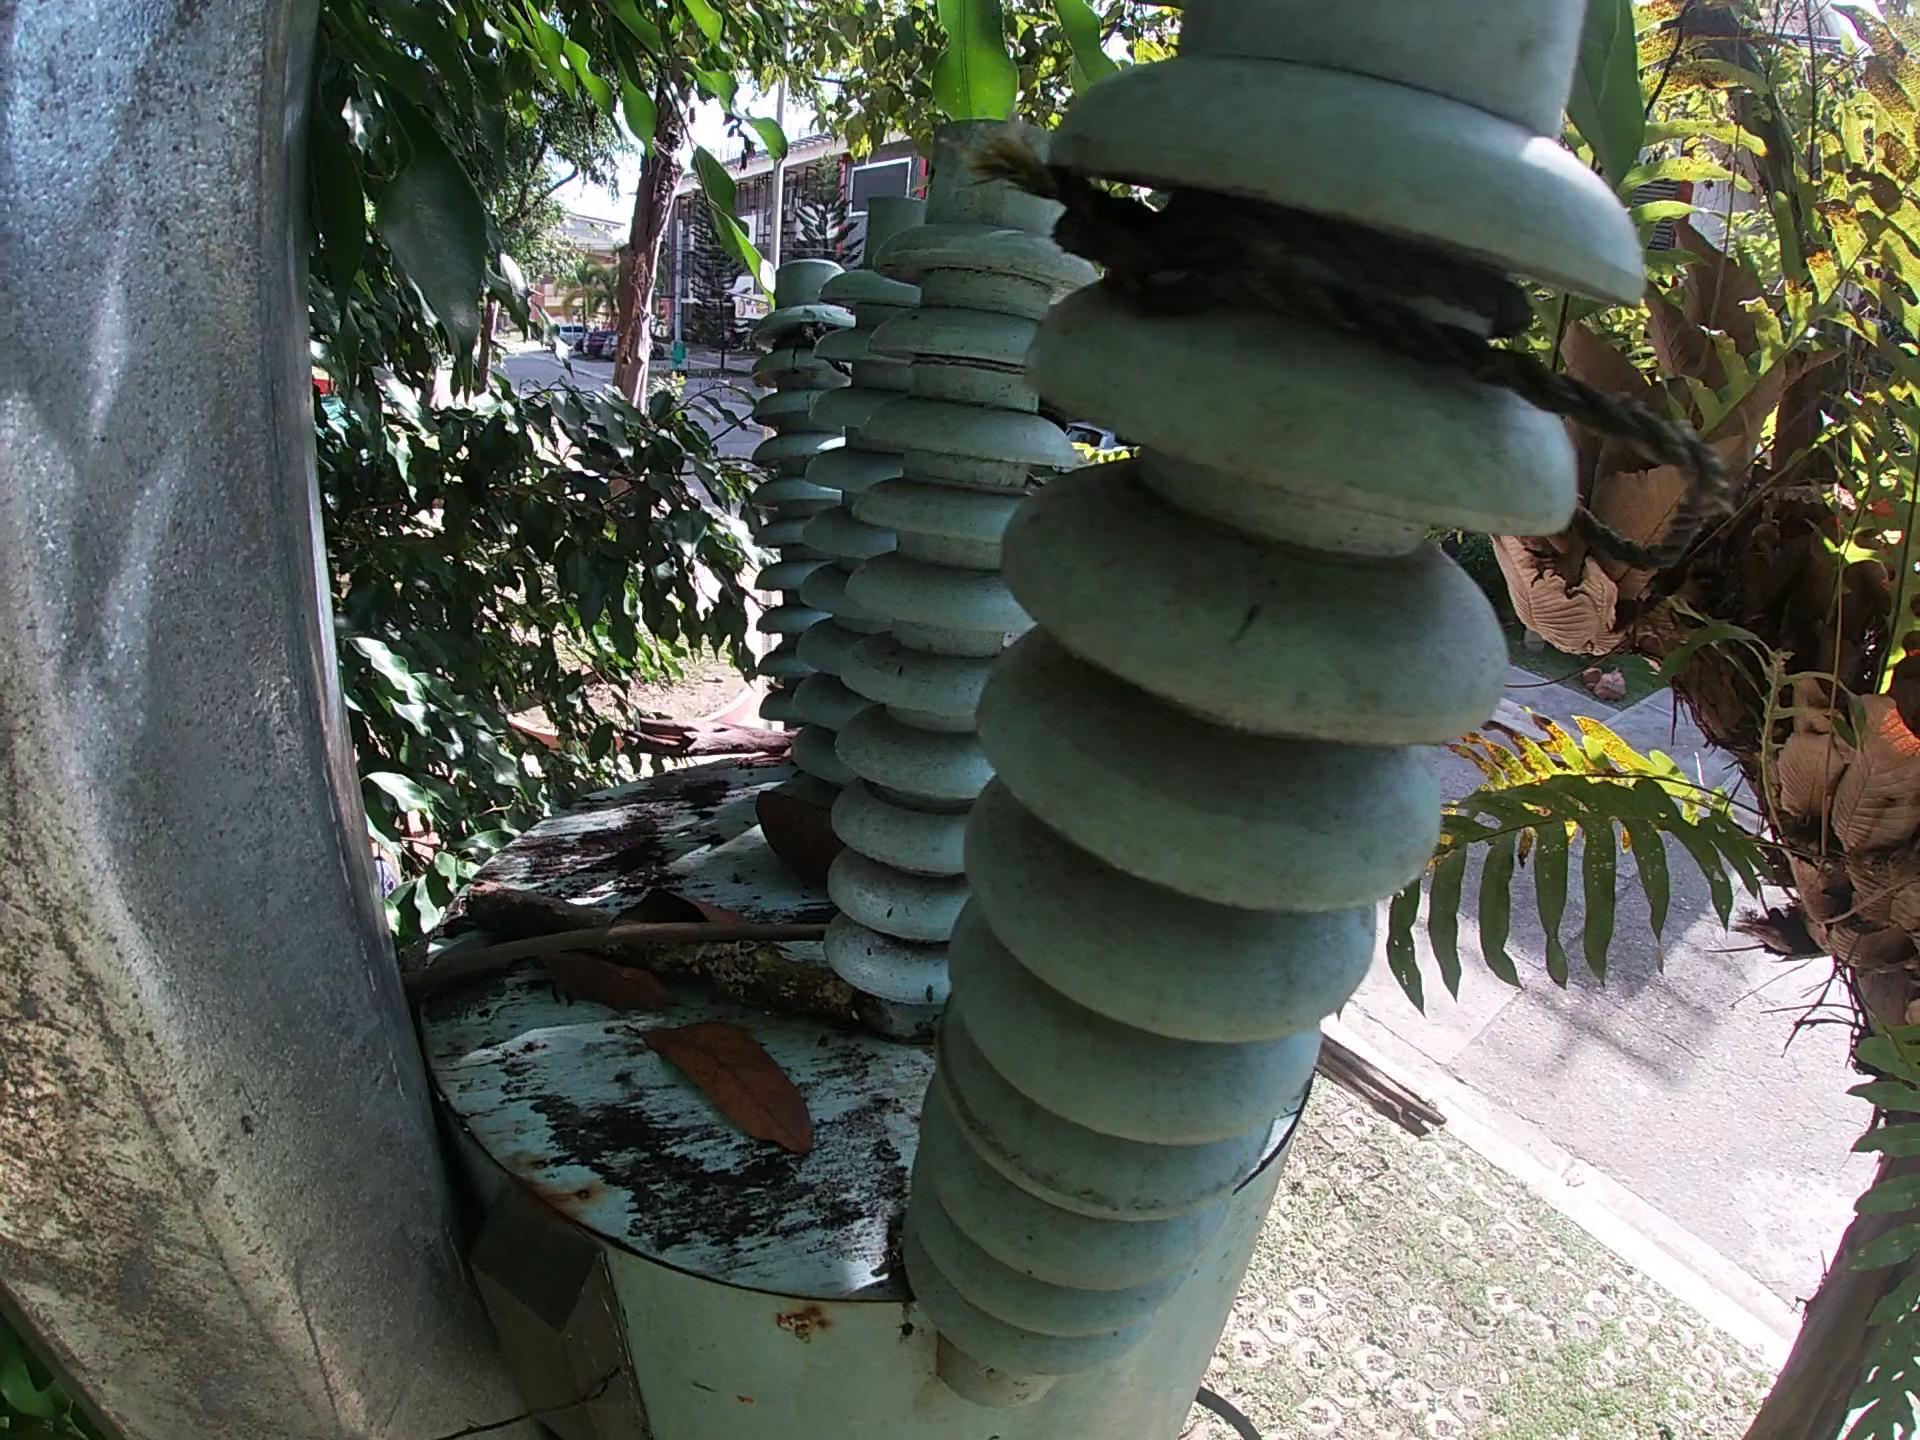leaf: (627, 1019, 824, 1159), (531, 945, 677, 1016), (609, 886, 754, 929)
mahogany fruit: (751, 787, 848, 895)
tree branch: (467, 877, 878, 1026), (395, 914, 839, 1000), (1308, 1026, 1454, 1151), (615, 718, 807, 768)
